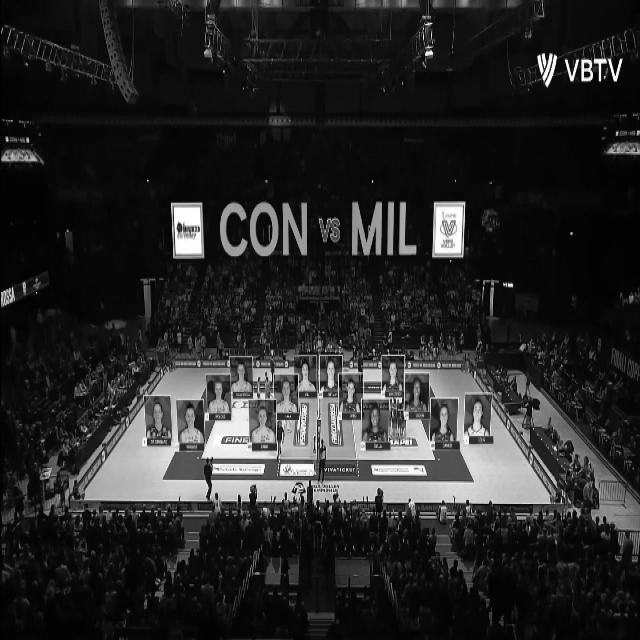volleyball court: (202, 390, 436, 466)
